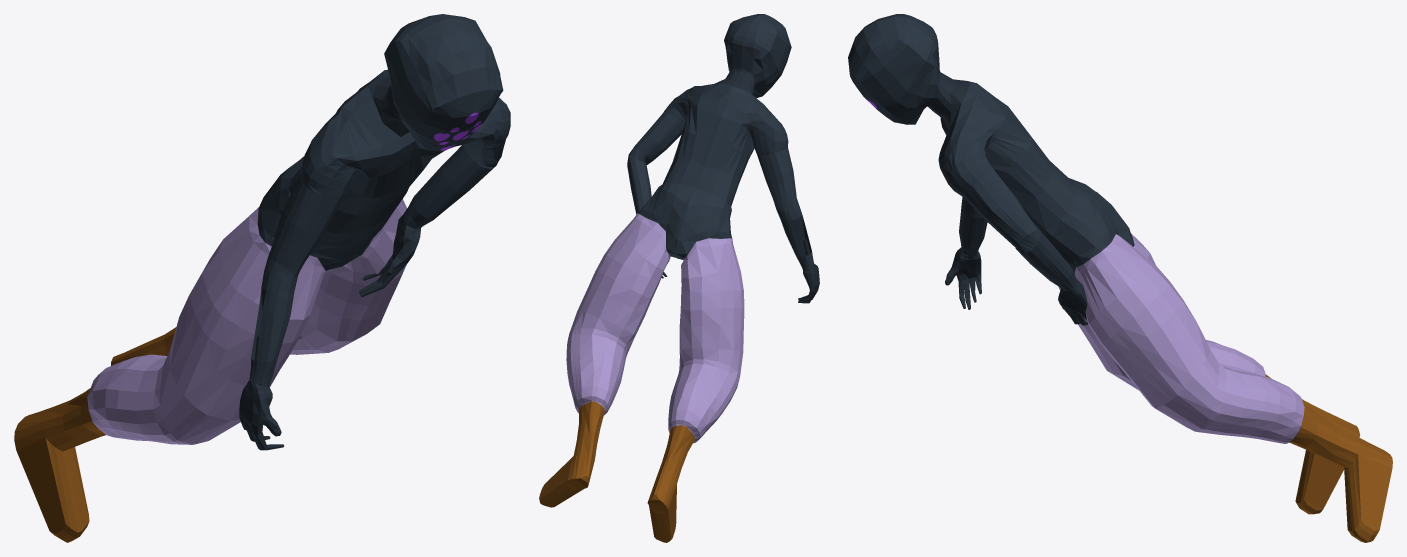
The model's file is Oracle_Die_000007.obj.
The picture shows the model from 3 angles, left to right: view 1: azimuth 30°, elevation 25°; view 2: azimuth 150°, elevation 25°; view 3: azimuth 270°, elevation 25°; orthographic projection. The views are drawn at different scales.
Parts seen in each view (by area): view 1: Cube; view 2: Cube; view 3: Cube.
Boxes of the visible parts, x1=… form: Cube: x1=14, y1=14, x2=510, y2=542; Cube: x1=539, y1=14, x2=819, y2=542; Cube: x1=848, y1=14, x2=1392, y2=542.
Bounding box in the file's own units: 1.38 × 3.15 × 2.9.
